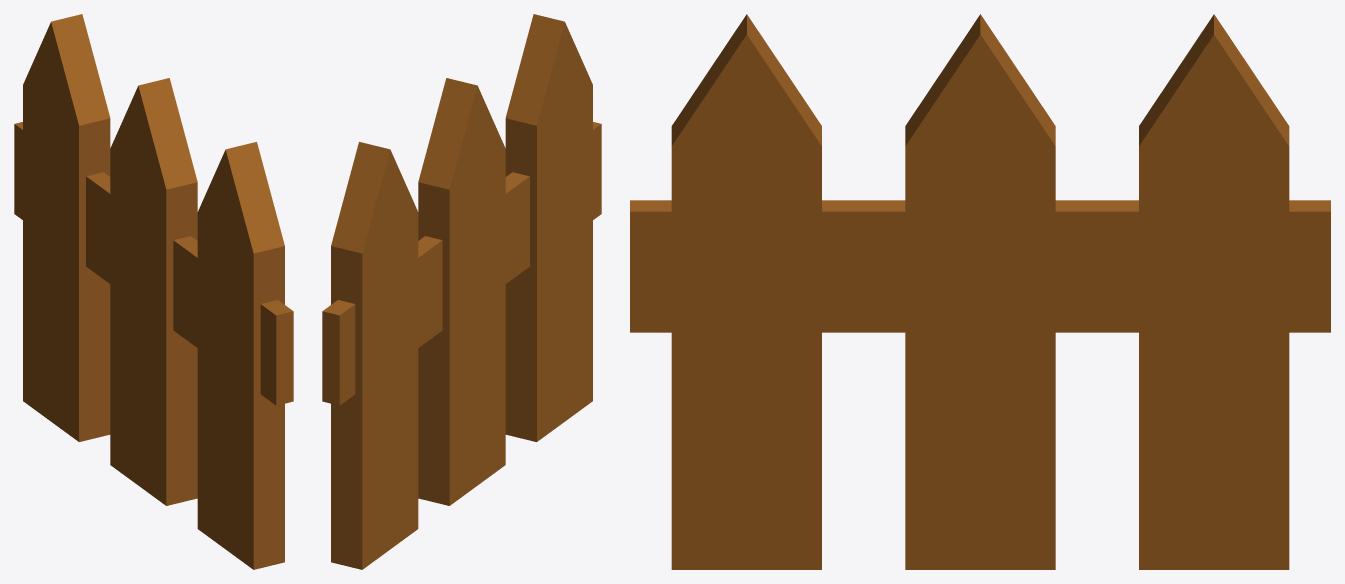
The model's file is fence.dae.
3 renders of one model, left to right at view 1: azimuth 30°, elevation 25°; view 2: azimuth 150°, elevation 25°; view 3: azimuth 270°, elevation 25°, orthographic. The views are drawn at different scales.
Visible parts, largest first — view 1: Cube; view 2: Cube; view 3: Cube.
Boxes of the visible parts, x1=… form: Cube: x1=14, y1=14, x2=293, y2=569; Cube: x1=322, y1=14, x2=601, y2=569; Cube: x1=630, y1=14, x2=1330, y2=569.
Size of the model in its own units: 0.2072 by 3 by 2.53.
